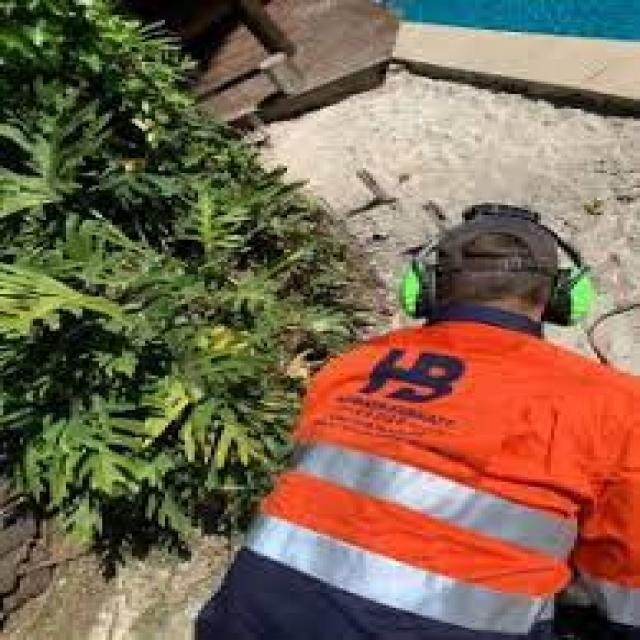reflective_jacket: (230, 314, 639, 635)
